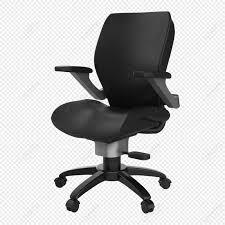chair: (51, 11, 181, 214)
